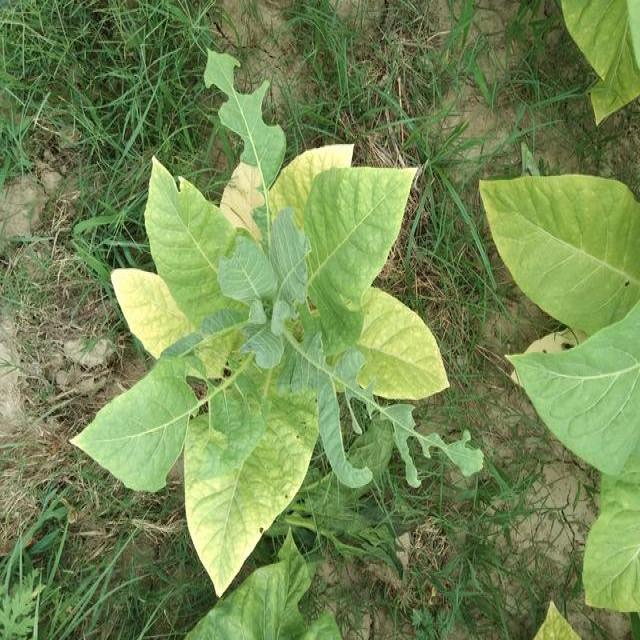crop: (80, 45, 456, 599)
